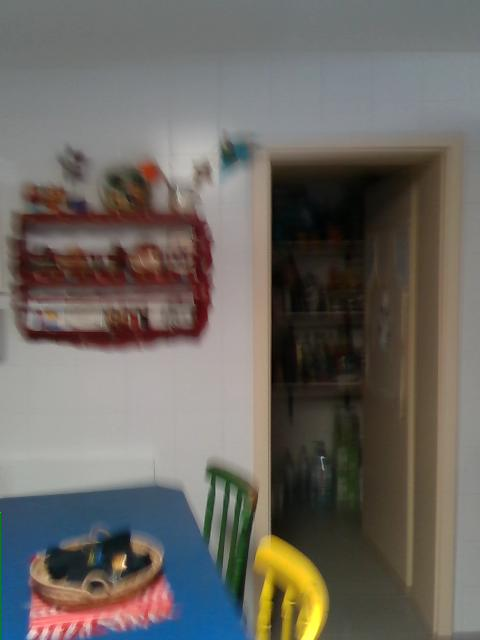open_door: (248, 128, 460, 535)
